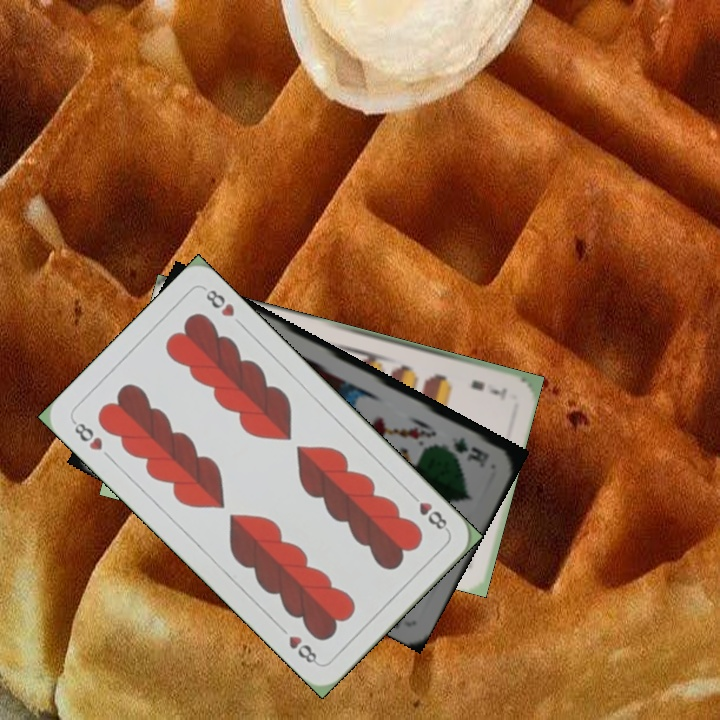E7: (467, 376, 510, 401)
GK: (447, 433, 492, 466)
H8: (405, 488, 451, 534), (68, 416, 105, 453)
